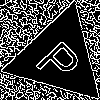P: (33, 32, 90, 88)
